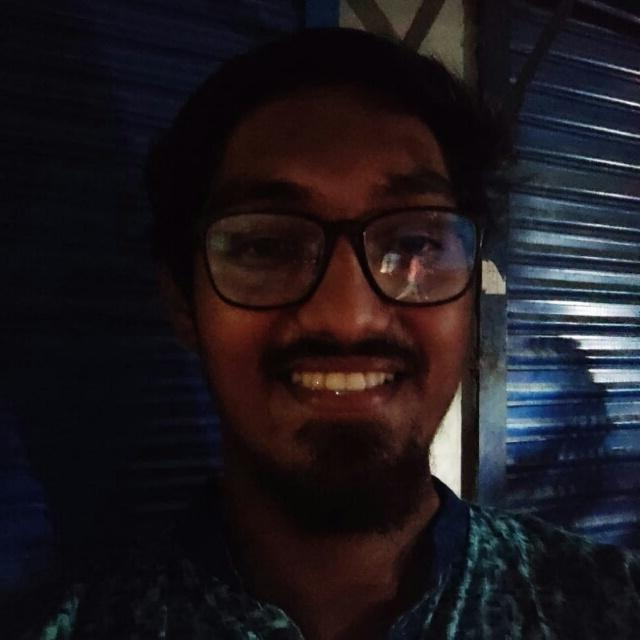Happy: (152, 15, 488, 513)
